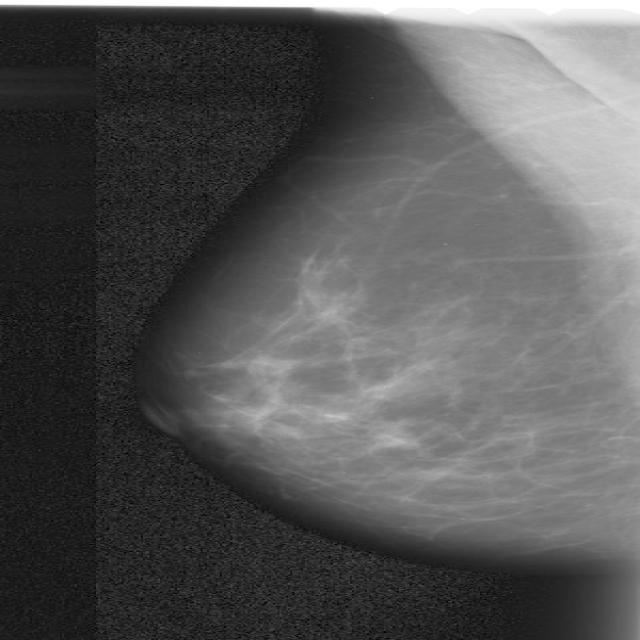tumour: (367, 421, 420, 450)
